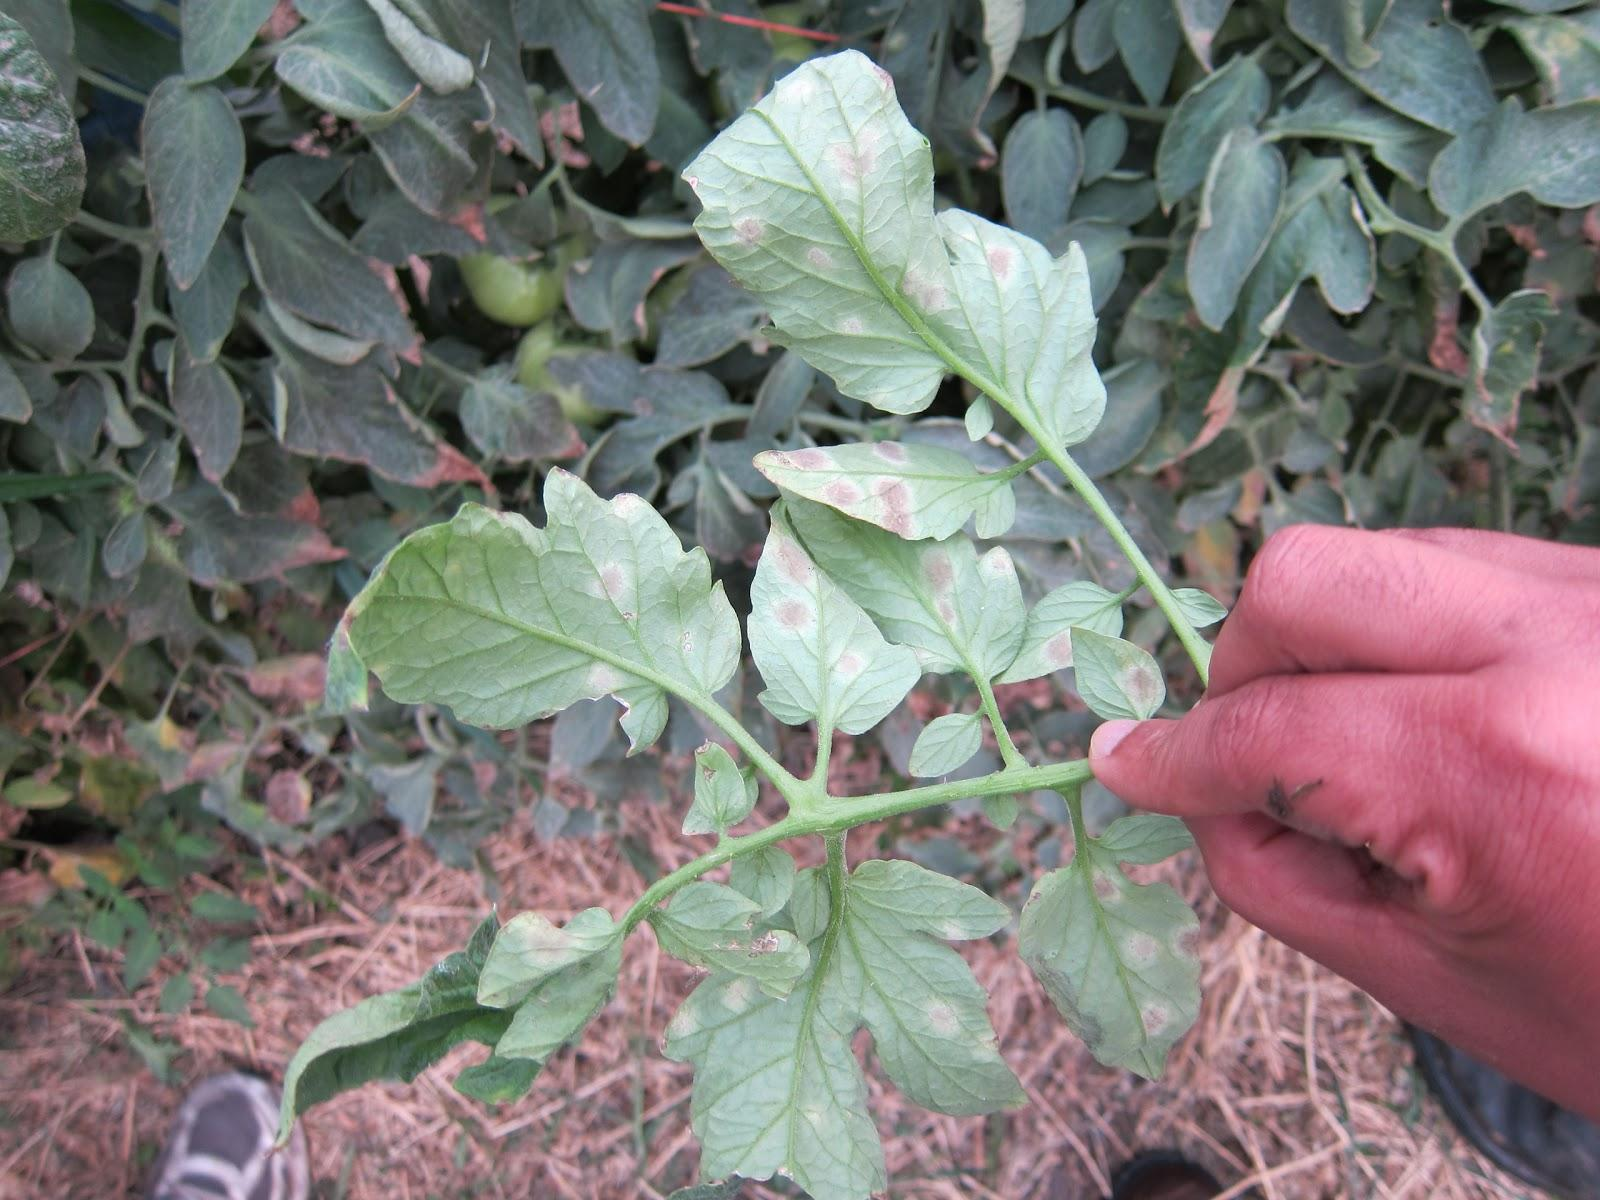Tomato mold leaf: (677, 33, 1095, 454), (265, 465, 743, 742), (673, 863, 1026, 1182), (238, 897, 624, 1146), (776, 473, 1031, 691), (1007, 814, 1207, 1087), (734, 493, 936, 742), (740, 408, 1042, 536), (643, 872, 803, 1006), (1048, 601, 1172, 722)
